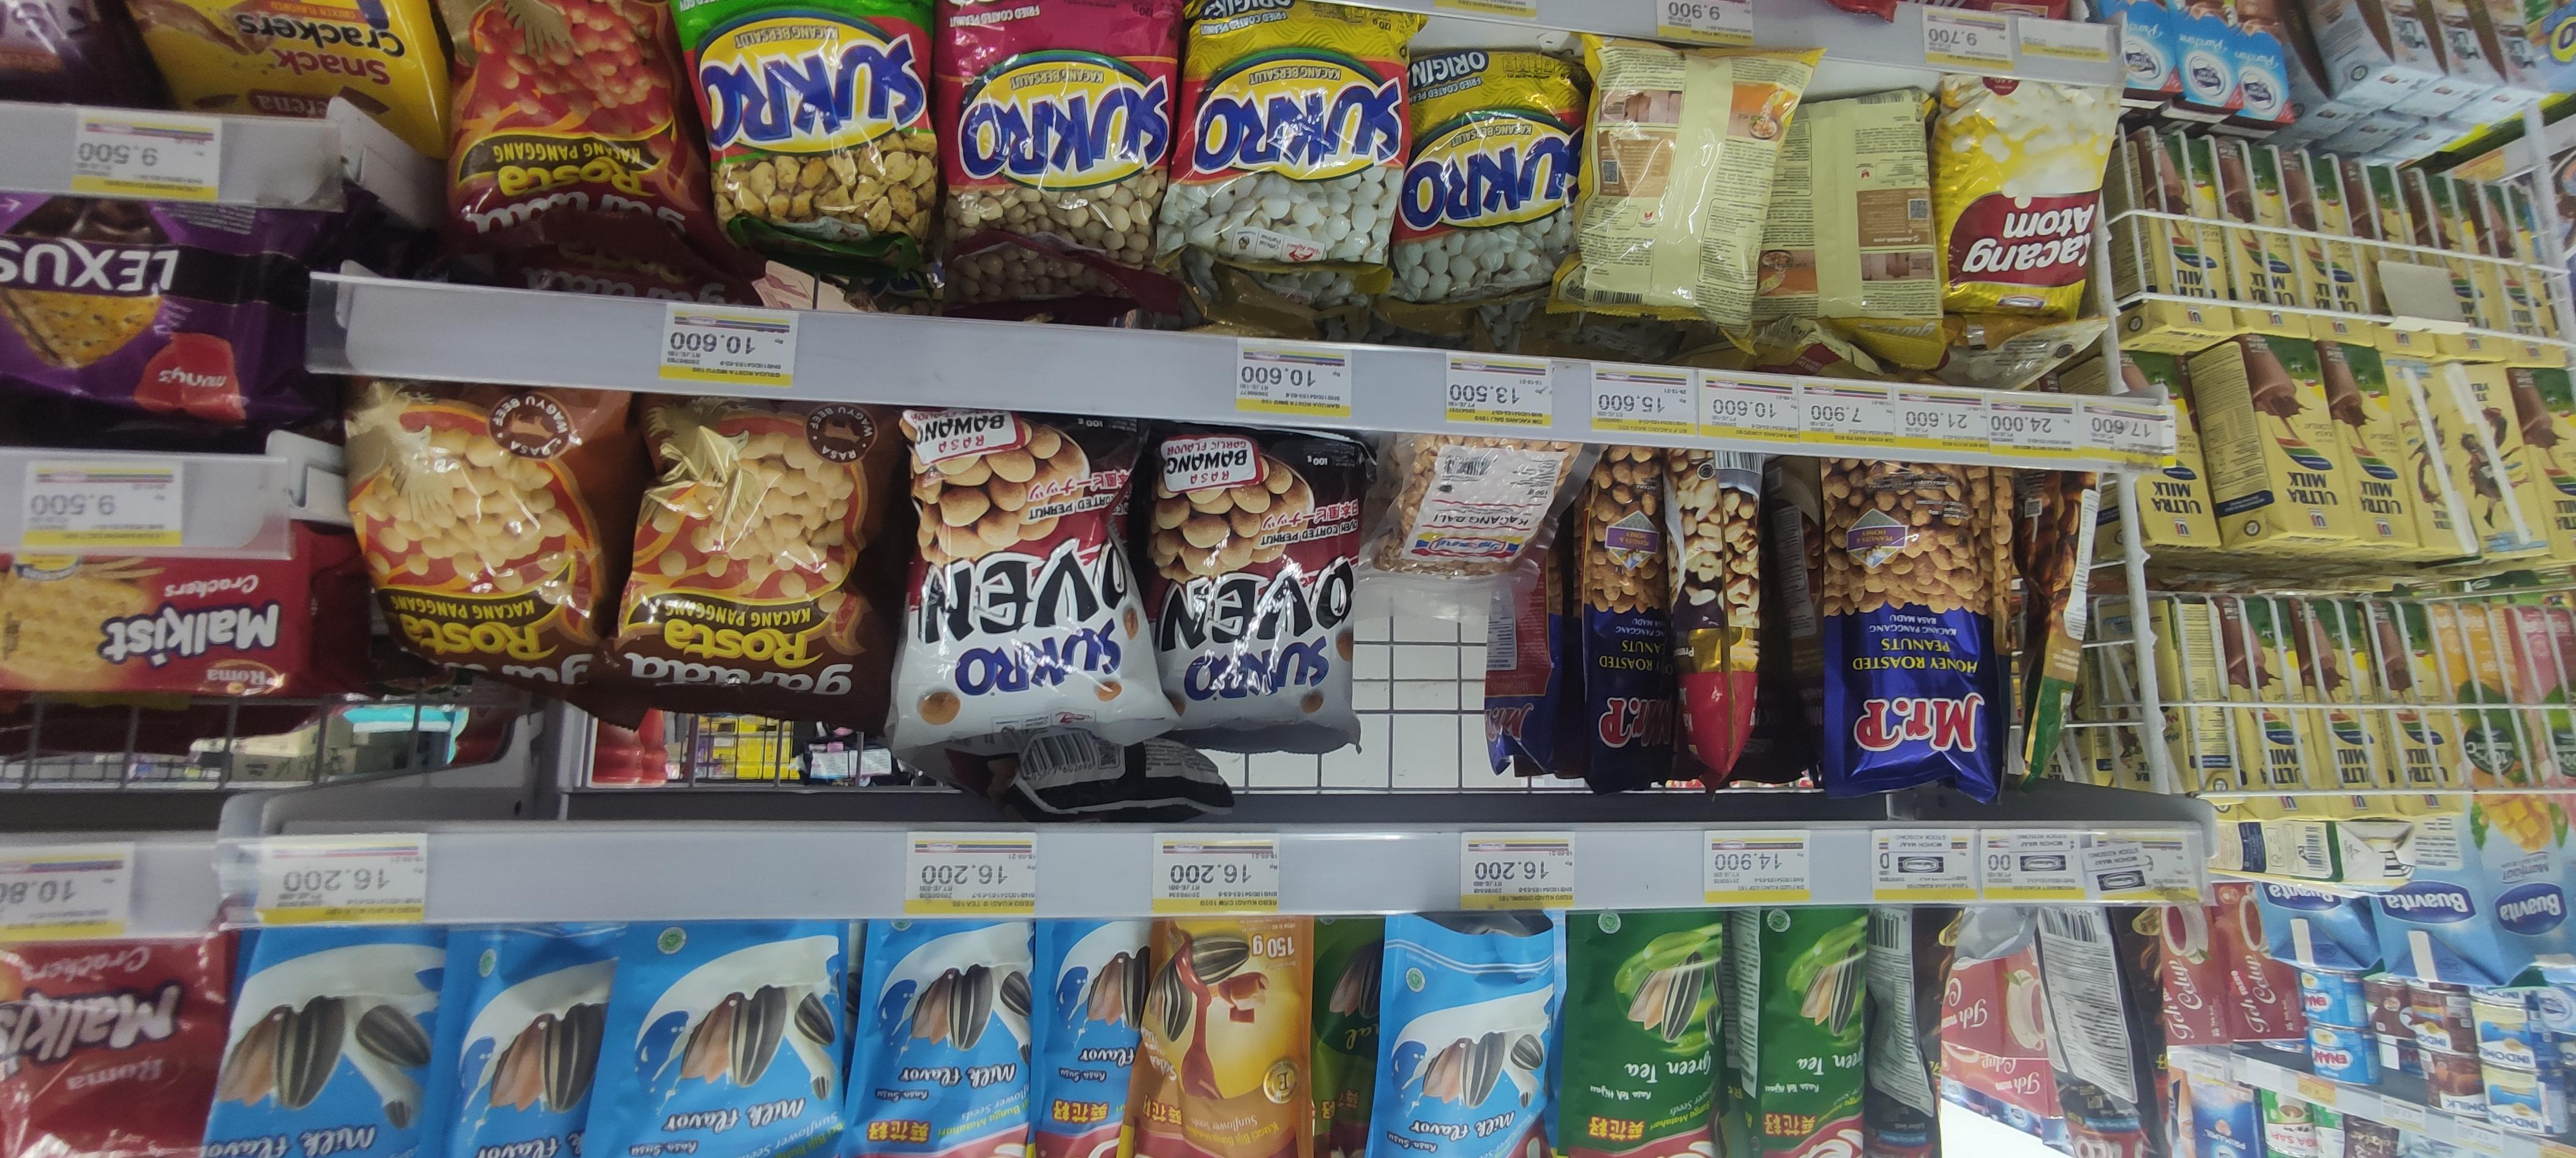90101111615100: (623, 376, 882, 711), (353, 378, 613, 711)
IndomaretKacangAtom: (1590, 56, 1782, 306), (1943, 85, 2103, 327), (1769, 89, 1927, 330)
KacangSukroBBQ: (946, 2, 1163, 255)
KacangSukroKedele: (688, 3, 922, 237)
KacangSukroOriginal: (1175, 0, 1390, 258), (1406, 43, 1580, 306)
KacangSukroOvenBawang: (897, 414, 1170, 741), (1155, 416, 1362, 747)
Mr.PHoneyRoastedPeanuts: (1819, 460, 2009, 802)
